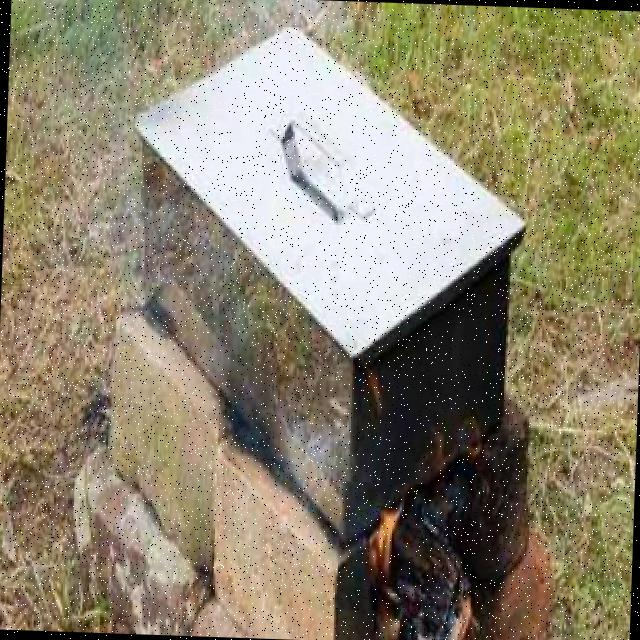fire: (336, 481, 424, 612)
